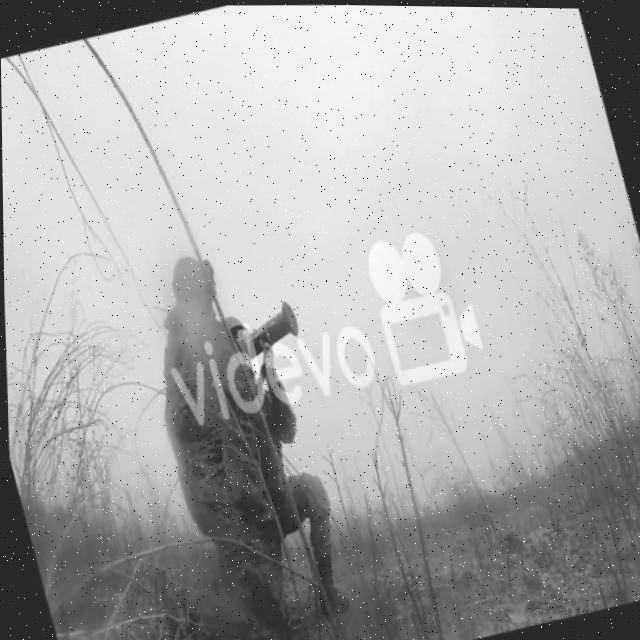rocket: (231, 294, 303, 361)
